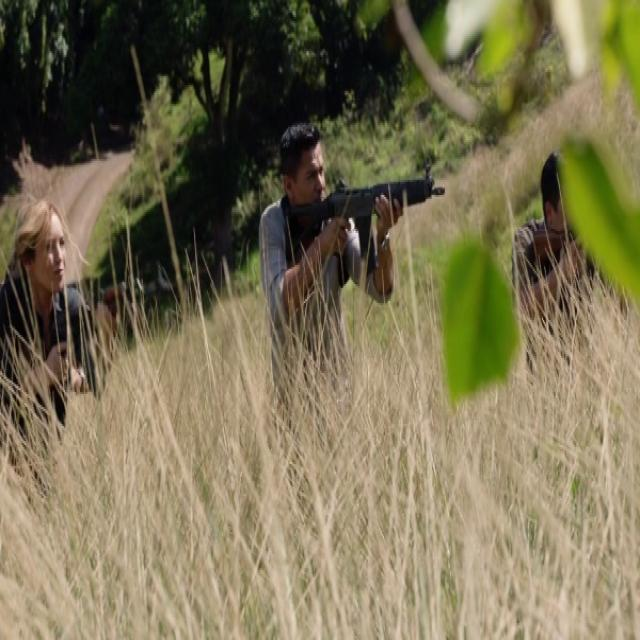rifle: (287, 168, 448, 245)
